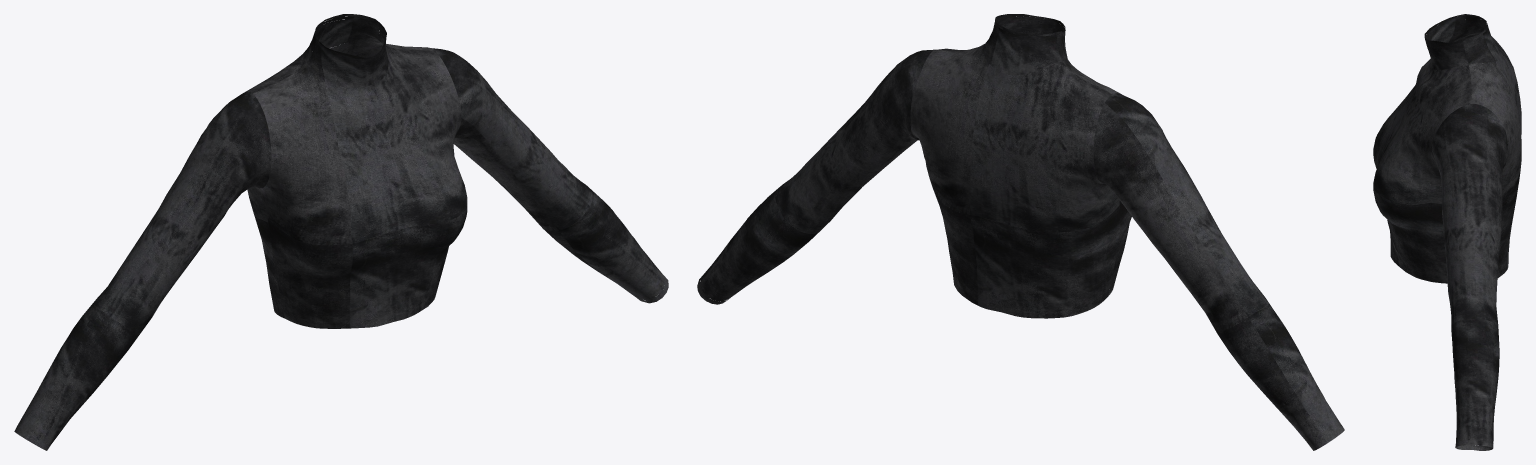
The model's file is black-velvet.glb.
3 renders of one model, left to right at view 1: azimuth 30°, elevation 25°; view 2: azimuth 150°, elevation 25°; view 3: azimuth 270°, elevation 25°, orthographic. The views are drawn at different scales.
Parts seen in each view (by area): view 1: dungaree; view 2: dungaree; view 3: dungaree.
Part boxes in pixels (x1,y1,x2,y2): dungaree: [14, 14, 668, 450]; dungaree: [697, 14, 1344, 450]; dungaree: [1373, 14, 1521, 450].
Size of the model in its own units: 5.41 by 2.82 by 1.26.
1 material, 1 textured.
